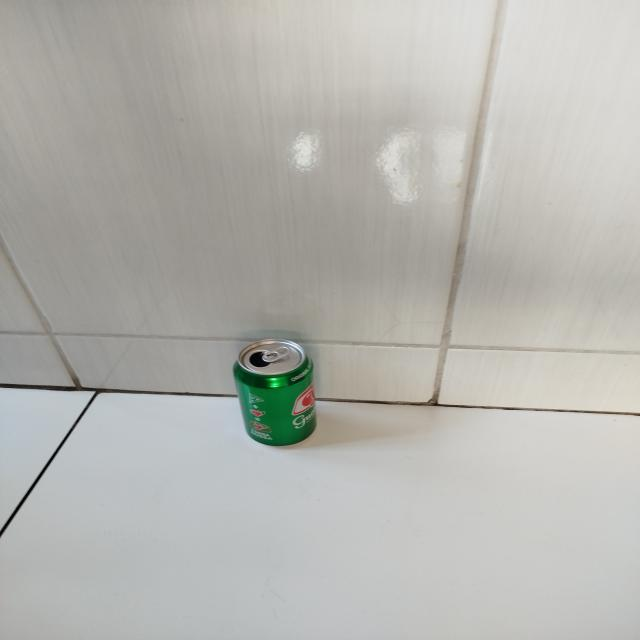Guarana: (230, 333, 325, 445)
